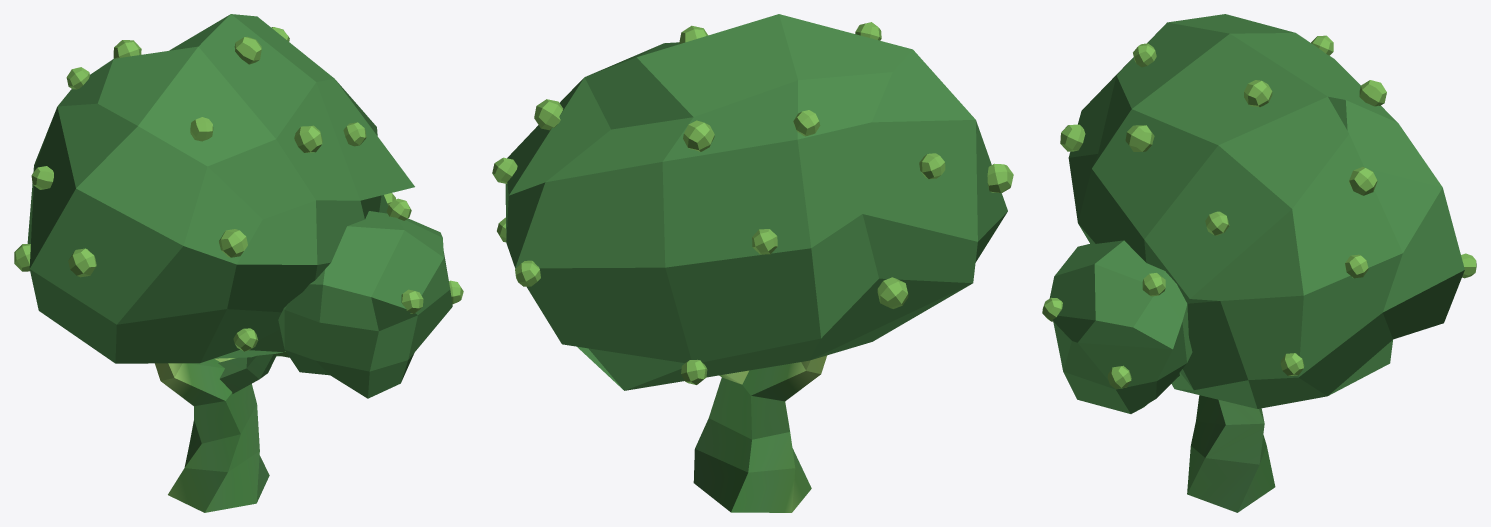
The model's file is tree_a.gltf.
The picture shows the model from 3 angles, left to right: view 1: azimuth 30°, elevation 25°; view 2: azimuth 150°, elevation 25°; view 3: azimuth 270°, elevation 25°; orthographic projection. The views are drawn at different scales.
Visible parts, largest first — view 1: tree_a001; view 2: tree_a001; view 3: tree_a001.
Boxes of the visible parts, x1,y1,x2,y2 form: tree_a001: (14, 14, 463, 512); tree_a001: (492, 14, 1013, 512); tree_a001: (1042, 14, 1476, 512).
Size of the model in its own units: 5.64 by 6.01 by 5.34.
Materials: 1 (1 with a texture image).
